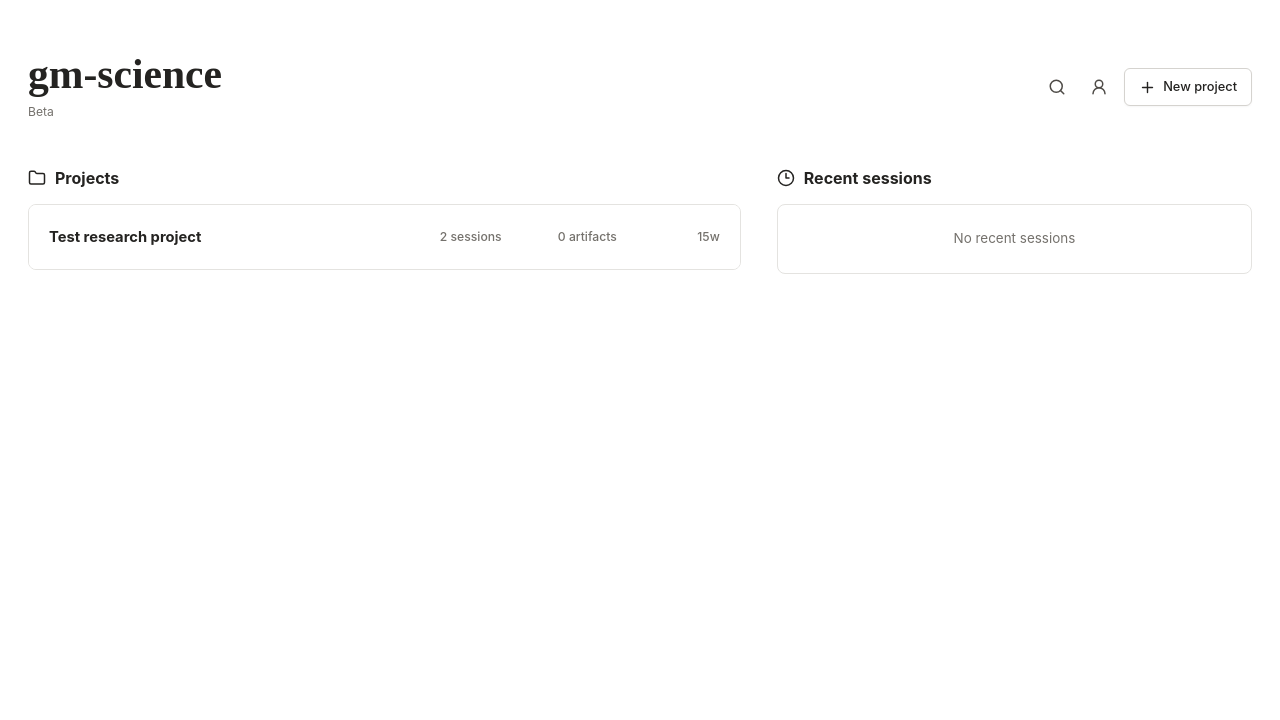
Test case: App sending state › uses the first user message as the visible session title
Click the button "Test research project 2 sessions 0 artifacts 15w" at (125,237), box [29, 205, 740, 269]
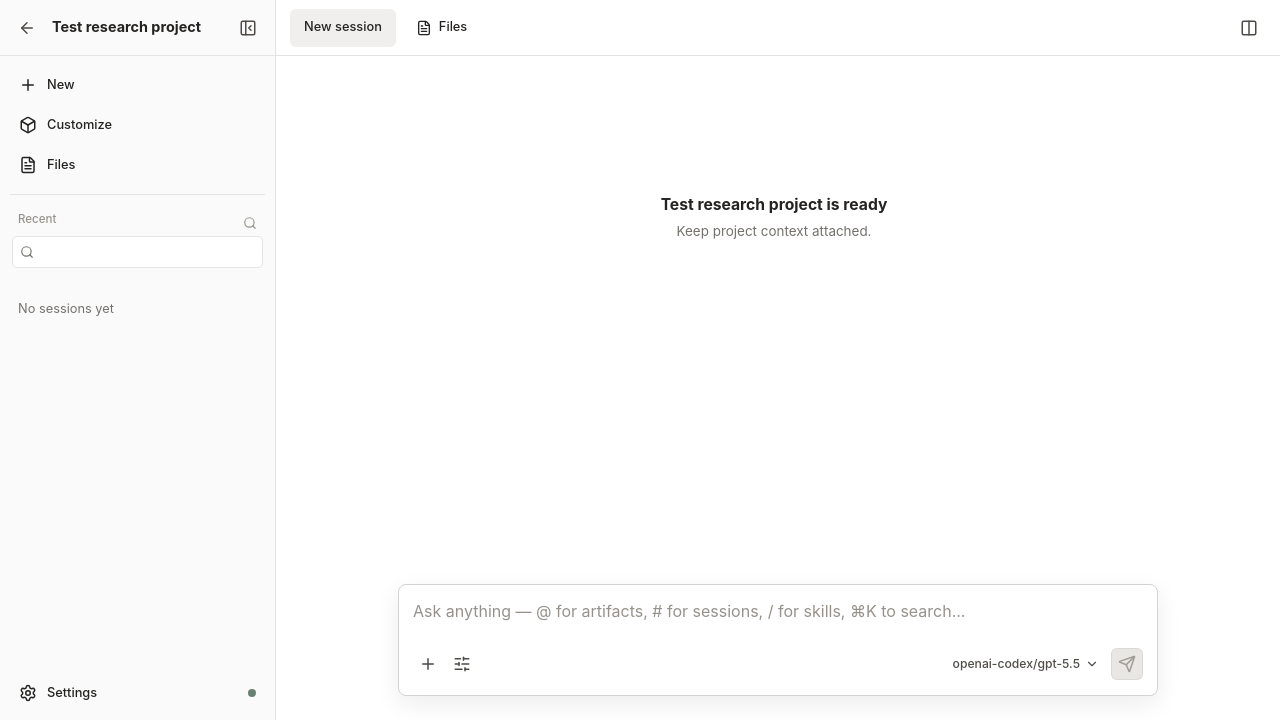
Now the heading "Test research project is ready" is shown, box [661, 194, 887, 216]
Replace the text in the text box named "Message" with "帮我查一下深圳到青岛的火车和费用" at (778,623), box [413, 599, 1143, 647]
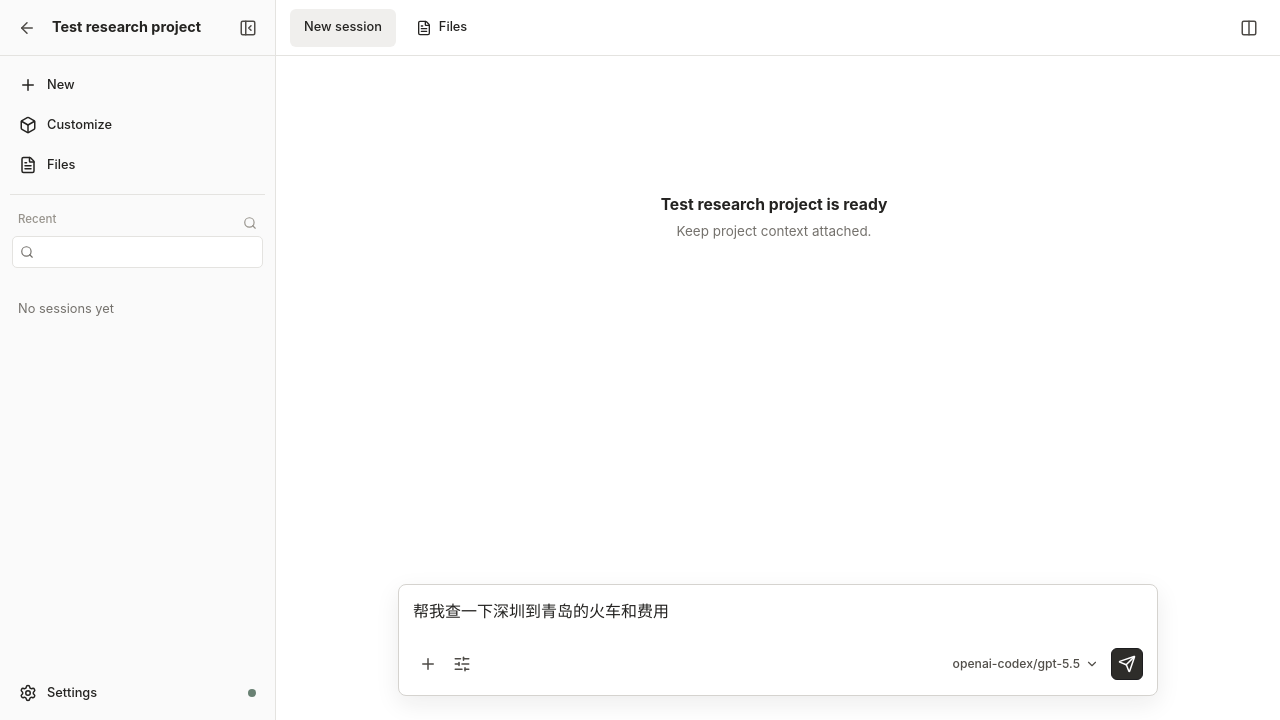
Click the button named "Send" at (1127,664), box [1111, 648, 1143, 680]
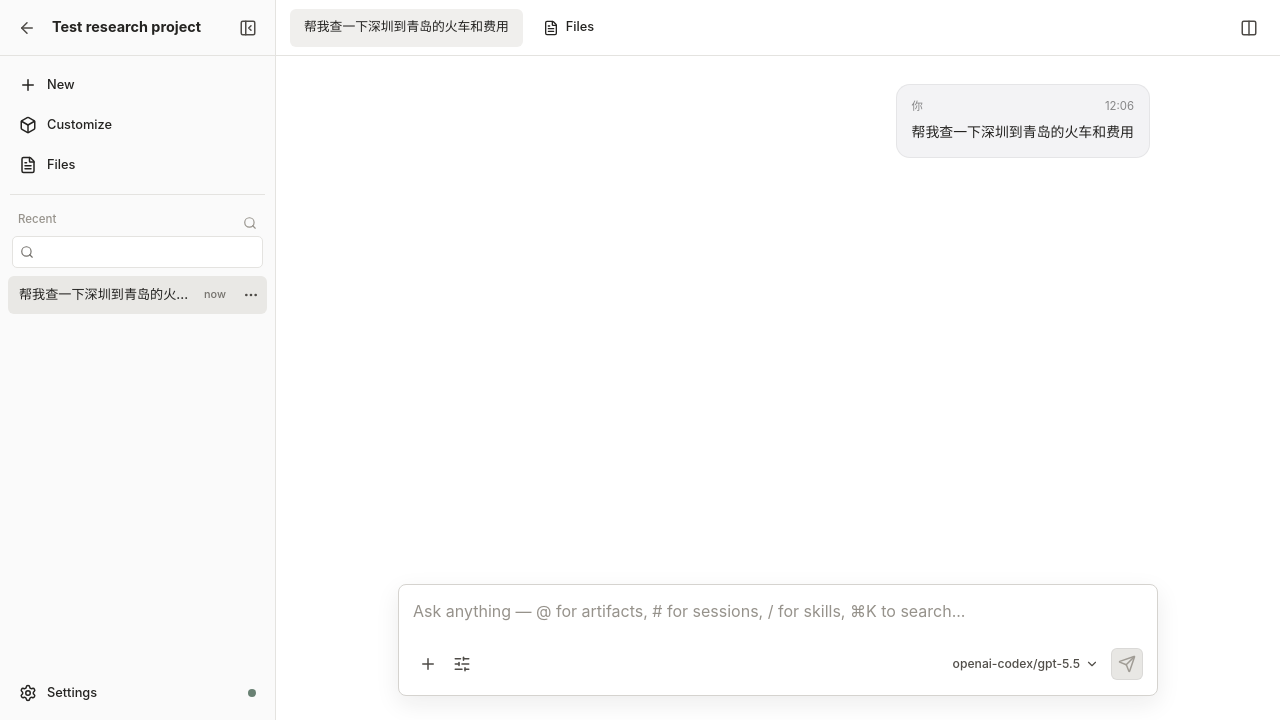
Now the text "帮我查一下深圳到青岛的火车和费用" below "Recent" is shown, box [19, 286, 229, 302]
